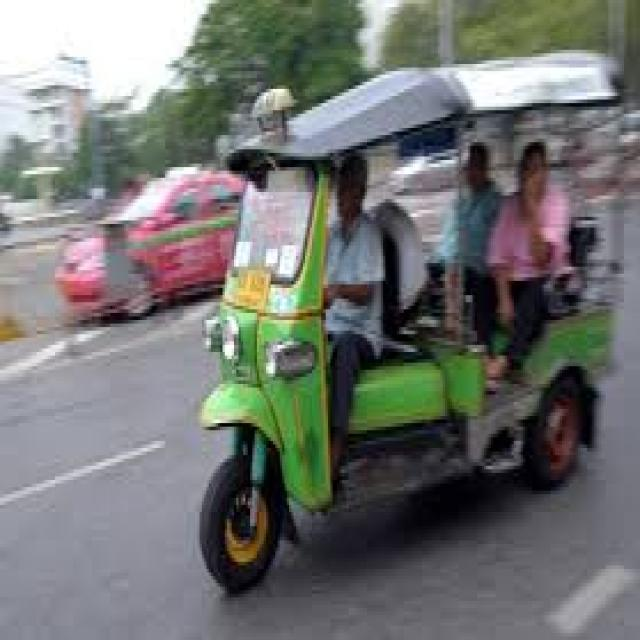tuktuk: (172, 21, 636, 604)
